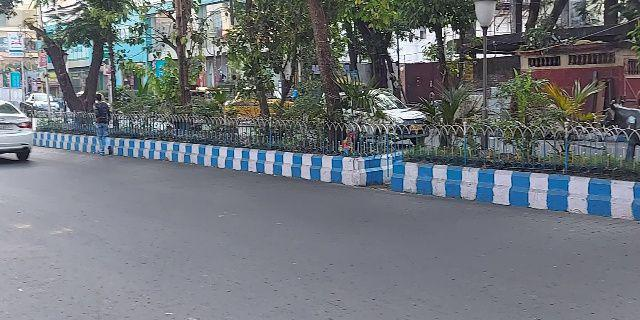Car: (1, 93, 38, 164)
